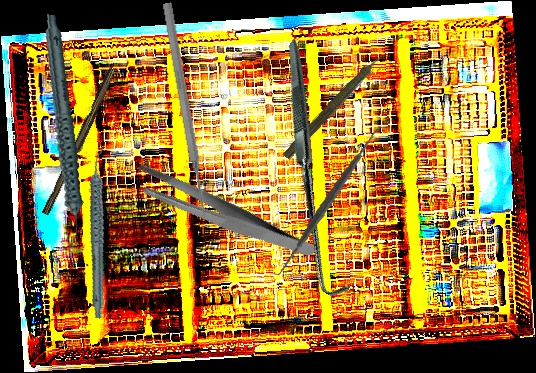Dressing Forceps: (128, 128, 318, 300)
Handpiece: (18, 14, 107, 249), (60, 147, 140, 320), (280, 45, 393, 165)
Hook Surgical: (186, 38, 448, 303)
Pusher: (159, 1, 212, 221)
Scalpel Handle: (41, 66, 119, 218)
Spatula Surgical: (256, 125, 403, 276)
